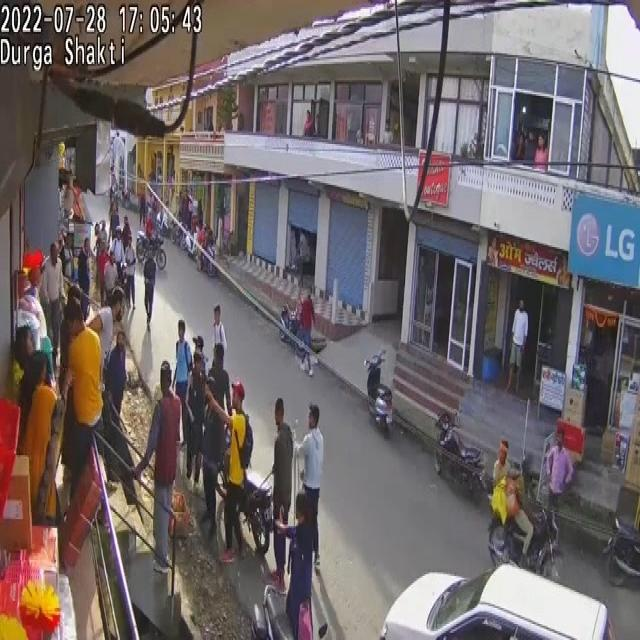fight: (60, 299, 116, 515), (20, 354, 59, 527)
non-fight: (136, 364, 184, 573), (273, 490, 315, 640), (293, 401, 324, 572), (268, 398, 294, 590), (185, 351, 208, 486), (296, 289, 316, 375), (211, 306, 227, 373), (143, 250, 156, 325)
